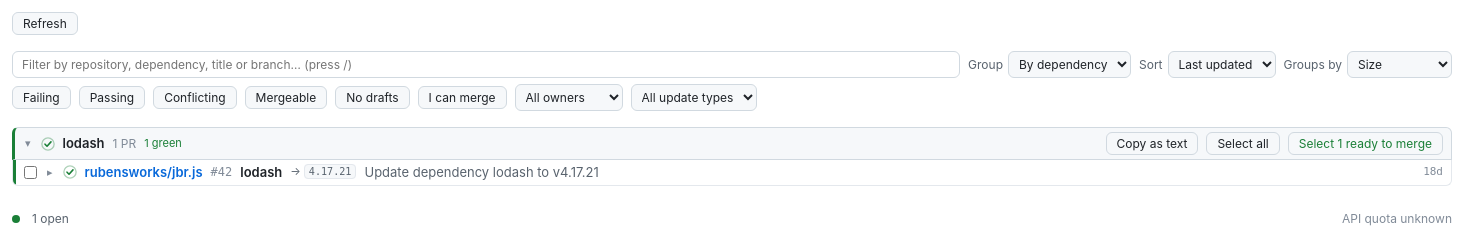
Dashboard › the view › collapses a group, and remembers that in the fragment
Check: the number of list items is 1, box 13,160 -> 1451,185
Click the button "▾": (28, 144) 23,138 -> 32,149
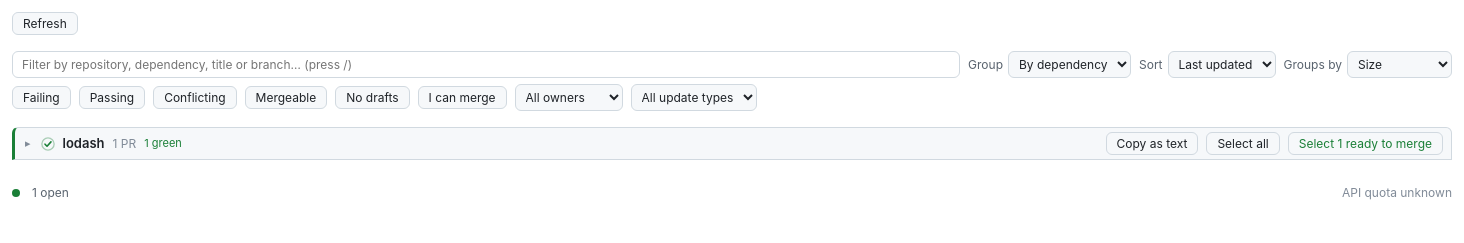
Check: no list items are shown
